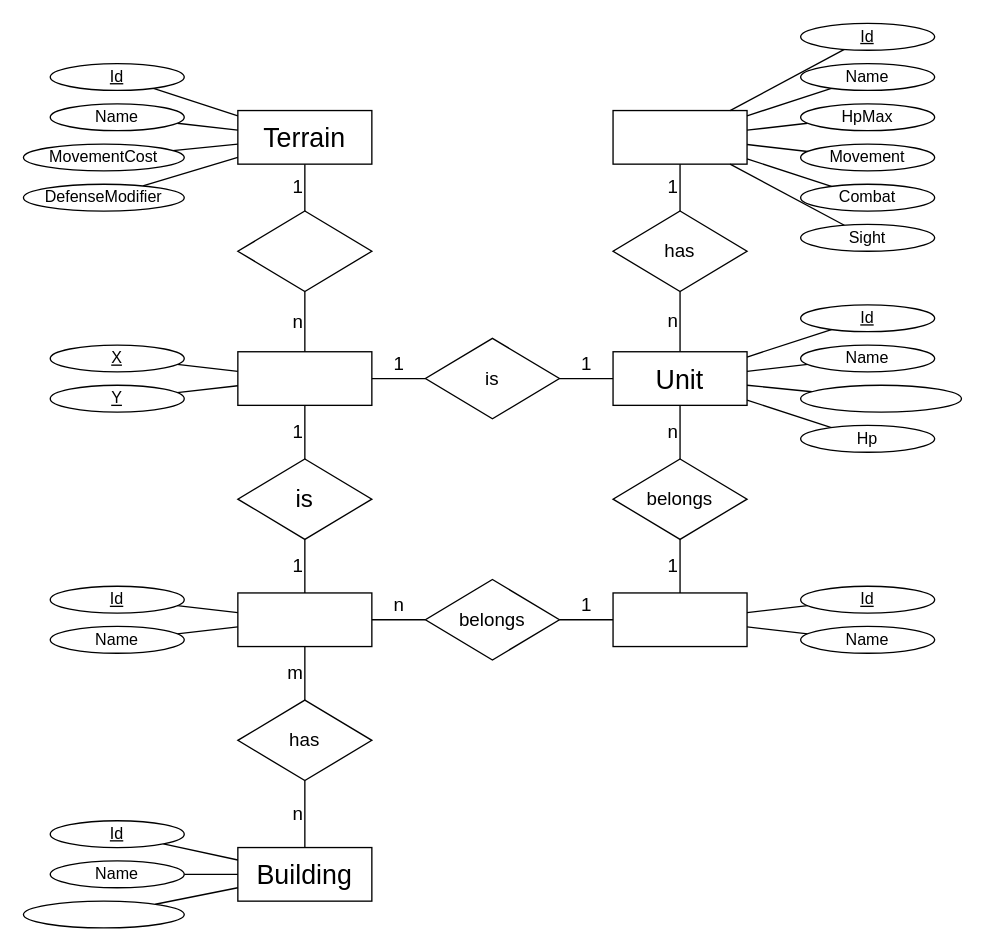
Some shapes in this 985 by 951 pixel diagram are drawn without their labels. Here are the shapes that lost their labels. From the top down, the box of each, then its label:
(612, 109, 747, 164): Unit Type
(237, 210, 372, 291): contains
(237, 350, 372, 405): Cell
(799, 384, 961, 412): MovementLeft
(237, 592, 372, 647): City
(612, 592, 747, 647): Player
(22, 900, 184, 928): ProductionModifier
